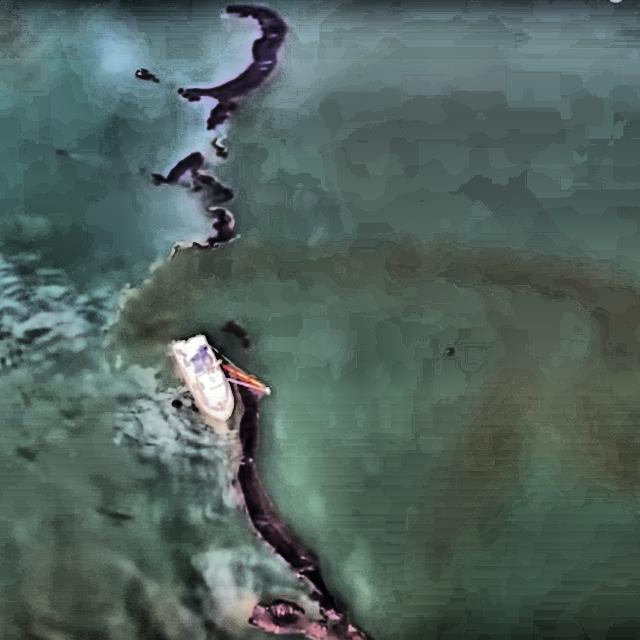truecolor: (238, 386, 369, 640), (179, 6, 287, 129), (152, 151, 235, 254), (212, 137, 228, 158)
